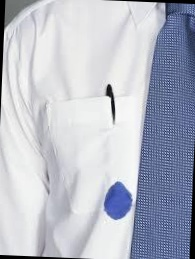ink: (102, 181, 132, 220)
